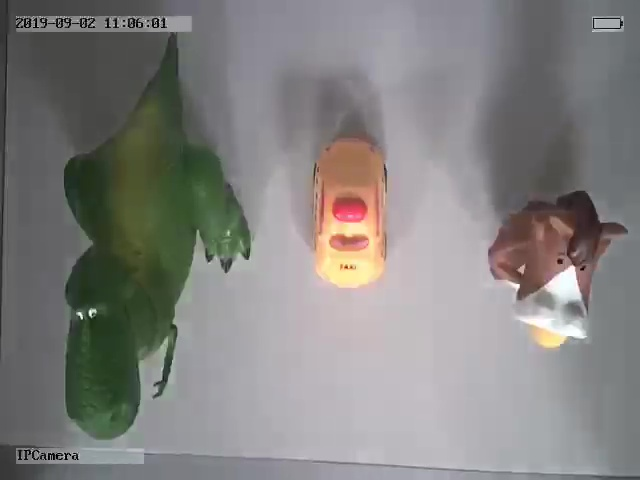car: (310, 135, 390, 288)
horse: (488, 191, 628, 351)
rex: (63, 54, 252, 438)
